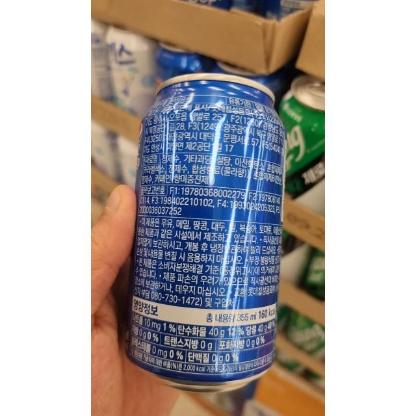Can: (125, 74, 287, 392)
